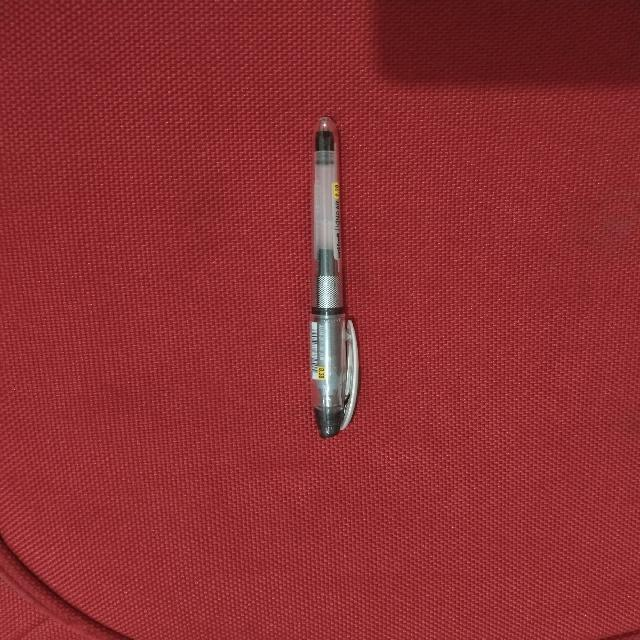pen: (311, 117, 358, 437)
